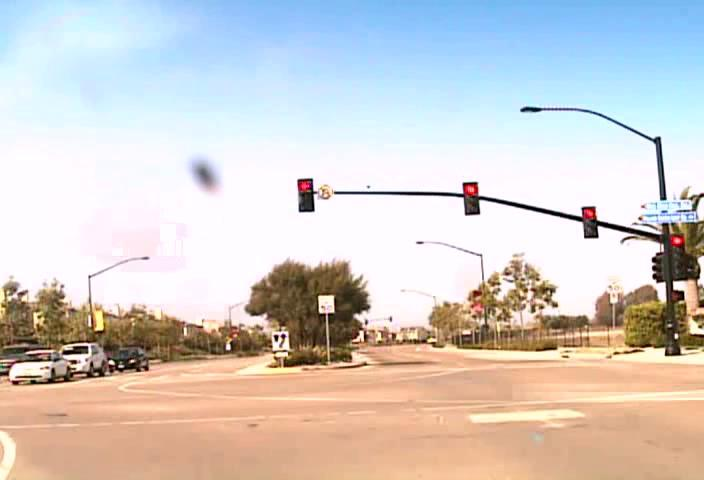speedLimit50: (317, 294, 334, 313)
